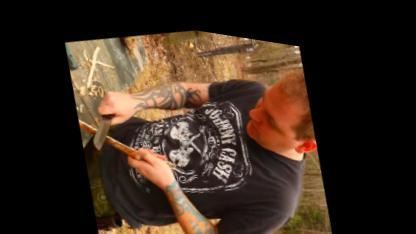knife: (78, 78, 136, 154)
